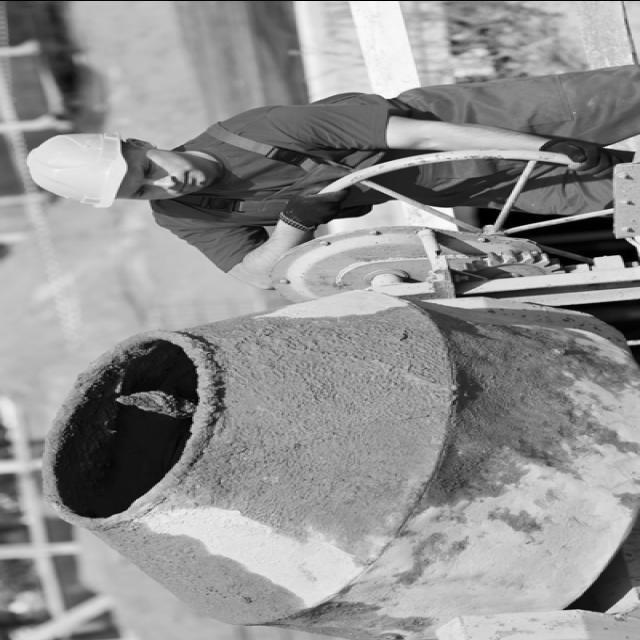safety_helmet: (27, 131, 130, 208)
